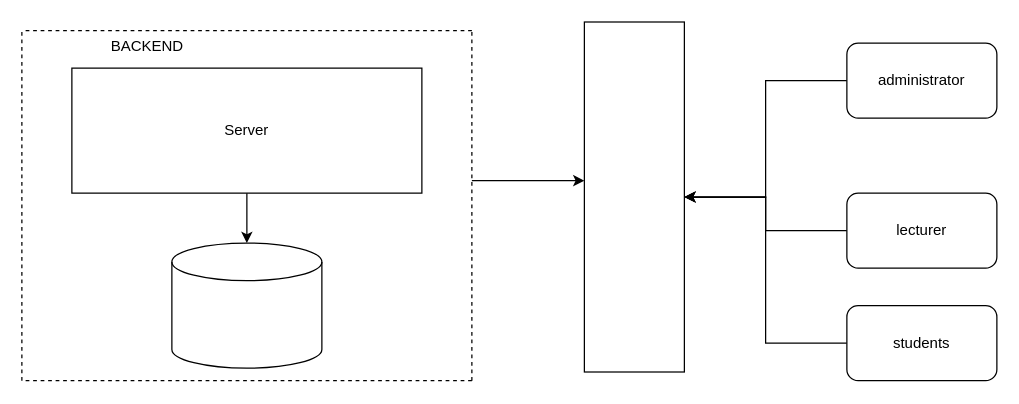
Some shapes in this 1019 by 404 pixel diagram are drawn without their labels. The box of each missing label's shape, as (x1, y1, x2, y2) in pixels:
FRONT-END ( HTML, CSS JAVASCRIPT ): (583, 21, 684, 372)
MySQL: (171, 242, 322, 368)
